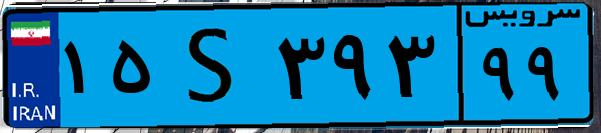1: (57, 26, 110, 100)
3: (270, 28, 330, 110), (385, 28, 445, 110)
5: (110, 28, 158, 98)
9: (330, 28, 385, 110), (475, 38, 525, 113), (525, 38, 570, 115)
S: (158, 12, 270, 120)
